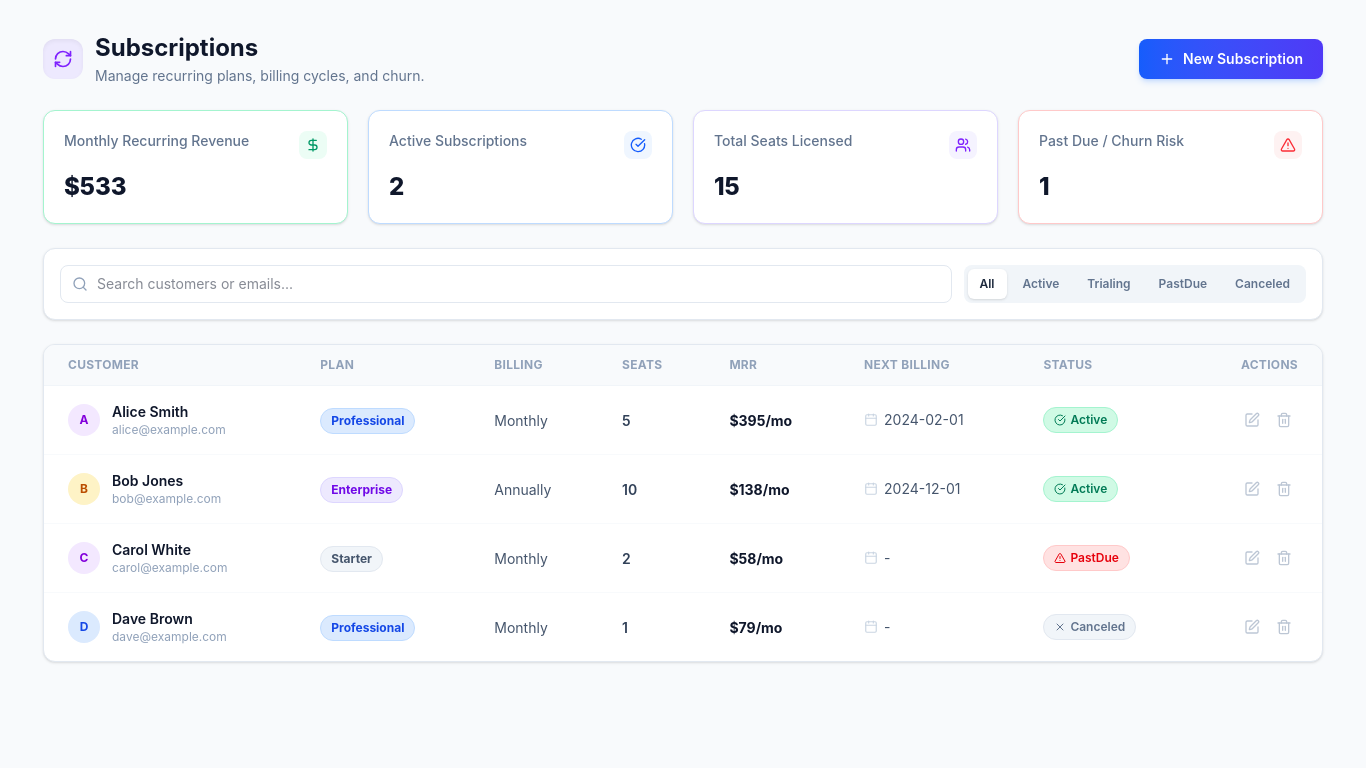
it: Subscriptions Component › filters subscriptions by Active status
The image size is (1366, 768).
Expected: the text "Alice Smith" is shown, [112,403,188,420]
Click the button "Active".
click(1041, 284)  # box [1010,269,1071,299]
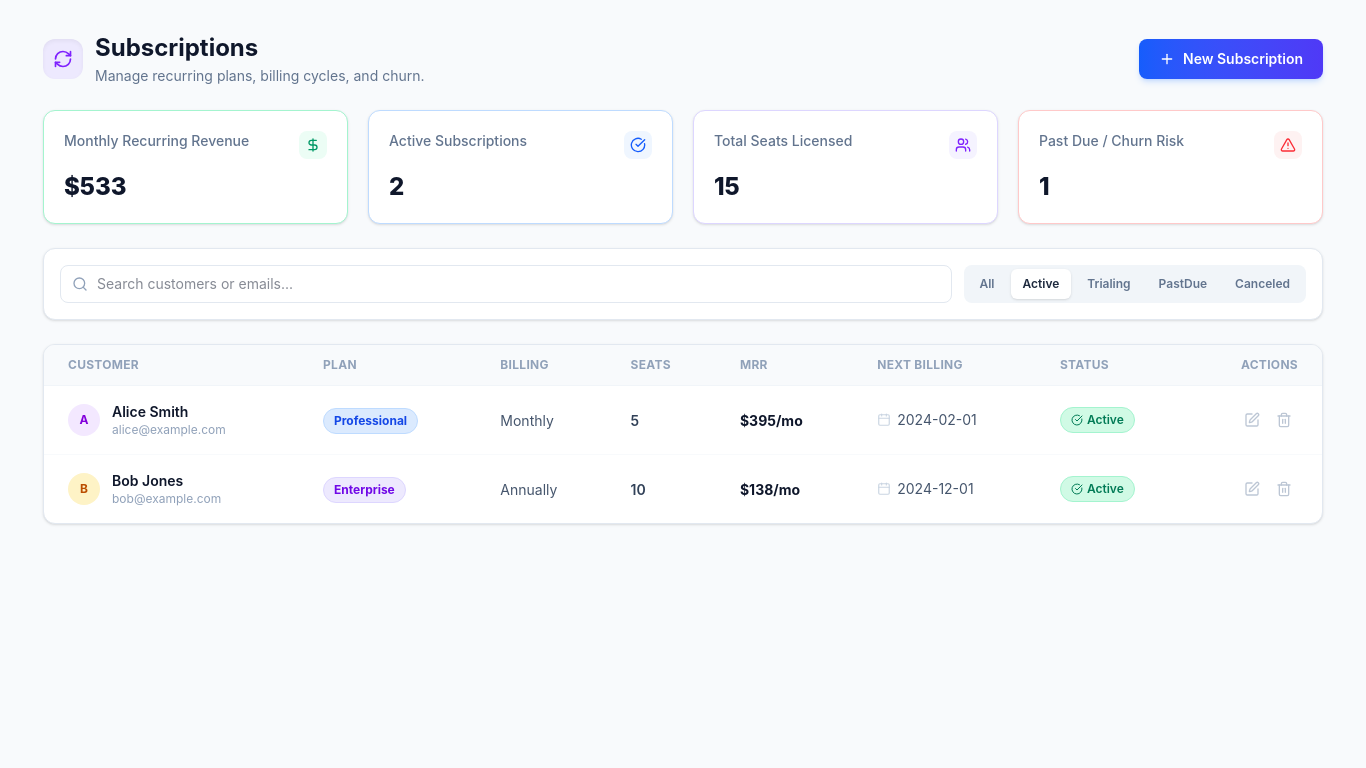
Expected: the text "Alice Smith" is shown, [112,403,188,420]
Expected: the text "Carol White" is gone
Expected: the text "Dave Brown" is gone
